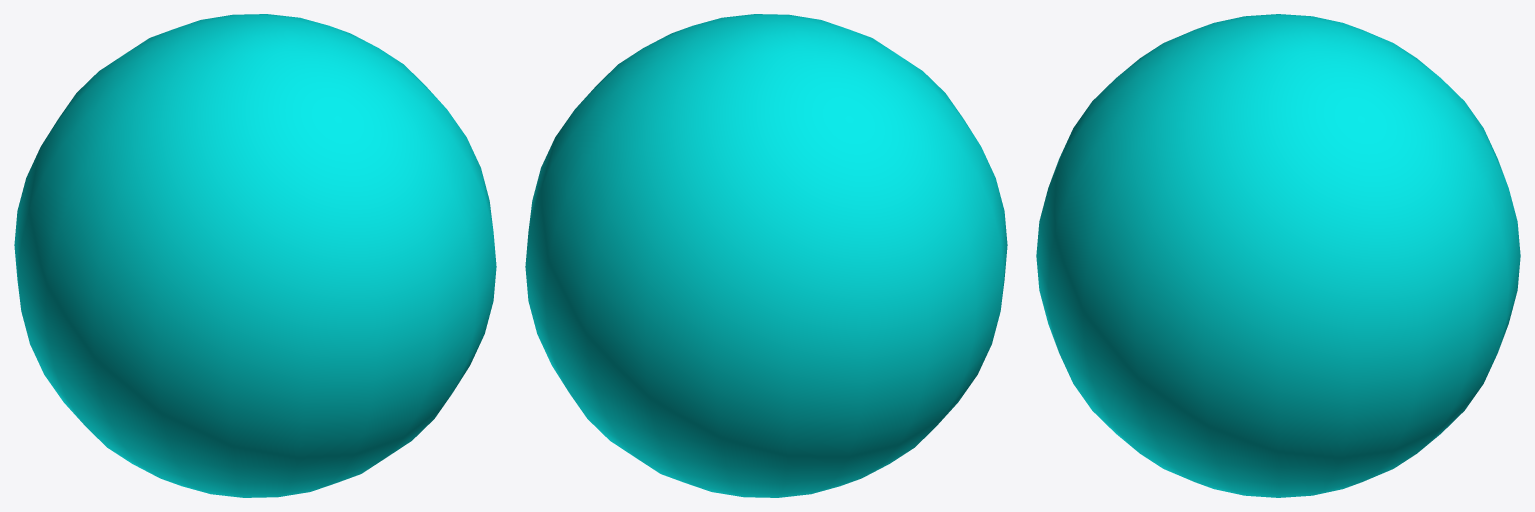
Rendered from ForceField.fbx.
3 views of the same model, side by side, from view 1: azimuth 30°, elevation 25°; view 2: azimuth 150°, elevation 25°; view 3: azimuth 270°, elevation 25° (orthographic).
Visible parts, largest first — view 1: pSphere2; view 2: pSphere2; view 3: pSphere2.
Boxes of the visible parts, x1,y1,x2,y2 form: pSphere2: (14,14,496,497); pSphere2: (525,14,1007,497); pSphere2: (1036,14,1520,497).
Size of the model in its own units: 20 by 20 by 20.
